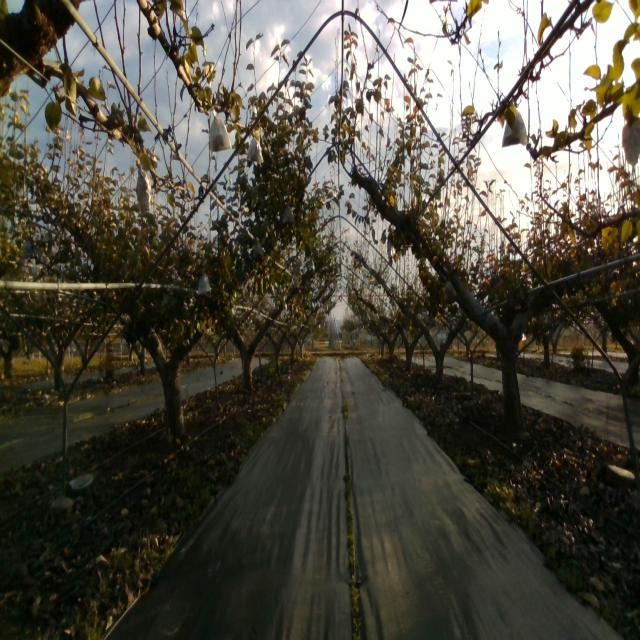pearbags: (502, 107, 528, 148), (210, 109, 231, 155), (622, 116, 640, 168), (135, 158, 152, 212), (247, 131, 264, 165), (198, 273, 212, 297), (252, 237, 264, 262), (282, 201, 294, 224), (444, 280, 456, 299)
